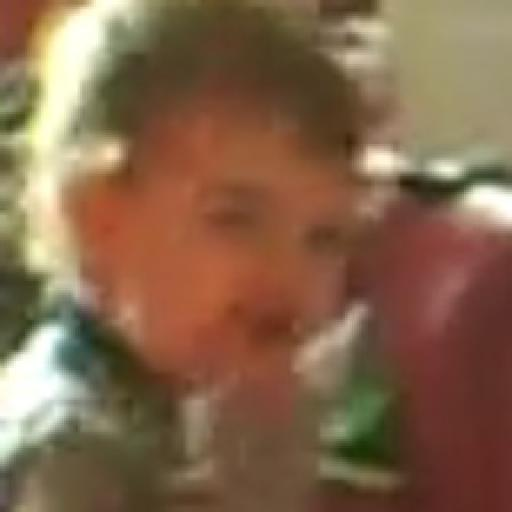Autism: (55, 29, 441, 401)
